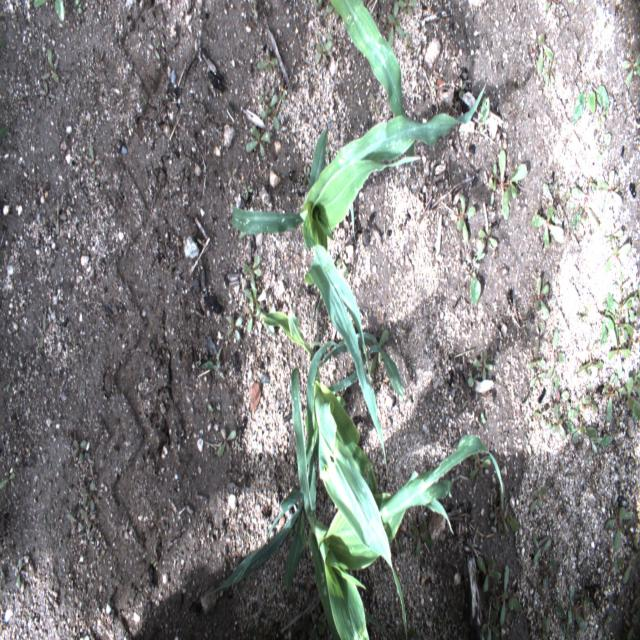crop: (229, 78, 488, 473), (208, 332, 503, 639), (263, 304, 392, 568), (329, 1, 406, 116)
weed: (570, 82, 610, 123), (492, 479, 518, 534), (606, 326, 632, 381), (572, 184, 600, 231), (606, 500, 630, 552), (533, 208, 565, 247), (466, 244, 485, 308), (456, 192, 476, 241), (412, 521, 438, 556), (477, 558, 502, 594), (508, 165, 532, 201), (202, 345, 226, 380), (245, 126, 271, 158), (599, 172, 622, 208), (568, 581, 584, 632), (548, 328, 564, 378), (530, 530, 551, 568), (620, 378, 638, 421), (372, 327, 389, 372), (261, 93, 280, 133), (614, 298, 634, 336), (498, 151, 509, 220), (471, 350, 494, 382), (604, 244, 632, 270), (614, 555, 638, 585), (388, 2, 404, 45), (600, 295, 614, 344), (622, 50, 640, 88), (588, 426, 614, 452), (594, 130, 613, 165), (242, 255, 262, 288), (543, 182, 560, 220), (534, 276, 549, 318), (50, 200, 67, 236), (42, 47, 60, 81), (480, 609, 500, 639), (244, 289, 262, 321), (216, 429, 237, 456), (536, 54, 552, 89), (88, 141, 102, 180), (246, 624, 282, 639), (501, 568, 510, 628), (581, 381, 598, 412), (256, 51, 279, 73), (565, 421, 587, 444), (470, 454, 490, 479), (529, 485, 547, 511), (555, 604, 571, 633), (477, 227, 498, 249), (226, 315, 242, 343), (542, 558, 556, 590), (553, 376, 570, 401), (539, 33, 554, 61), (398, 0, 419, 19), (315, 40, 333, 62), (553, 402, 564, 438), (82, 485, 95, 514), (572, 207, 587, 232), (73, 439, 87, 465), (309, 614, 325, 636), (560, 186, 573, 213), (68, 512, 85, 532), (479, 96, 490, 126), (0, 467, 14, 490), (542, 603, 552, 635), (578, 362, 604, 374), (597, 616, 611, 638), (625, 299, 636, 327), (597, 105, 608, 133), (529, 370, 546, 388), (369, 91, 381, 116), (146, 40, 161, 60), (291, 618, 306, 638), (81, 509, 94, 532), (150, 549, 162, 573), (53, 0, 65, 24), (16, 556, 25, 588), (532, 576, 544, 600), (87, 463, 98, 489), (627, 612, 638, 638), (535, 404, 548, 426), (246, 299, 254, 334), (536, 322, 546, 350), (336, 256, 348, 279), (257, 84, 269, 106), (606, 393, 613, 430), (468, 371, 480, 392), (613, 272, 625, 293), (602, 373, 614, 393), (0, 122, 10, 145), (528, 357, 547, 369), (39, 316, 46, 348), (509, 594, 520, 614), (605, 232, 623, 244), (208, 402, 223, 416), (404, 32, 414, 52), (552, 2, 560, 27), (243, 183, 253, 202), (462, 602, 469, 628), (228, 168, 237, 188), (488, 176, 494, 206), (492, 162, 498, 192), (567, 408, 584, 418), (492, 590, 500, 611), (582, 588, 588, 616), (438, 616, 449, 631), (397, 529, 404, 552), (250, 0, 258, 20), (458, 81, 466, 99), (614, 409, 623, 425), (326, 7, 337, 20), (614, 378, 620, 401), (624, 332, 632, 349), (74, 0, 83, 15), (32, 0, 47, 9), (632, 362, 638, 384), (19, 583, 26, 601), (280, 88, 286, 108), (312, 0, 324, 10), (544, 0, 553, 12), (633, 537, 640, 552), (0, 35, 6, 51), (480, 410, 485, 426), (547, 413, 552, 429), (429, 82, 435, 95), (80, 479, 90, 486), (164, 606, 169, 618), (43, 512, 47, 526), (566, 0, 574, 7), (56, 460, 62, 469), (6, 382, 10, 394), (72, 627, 76, 639)
